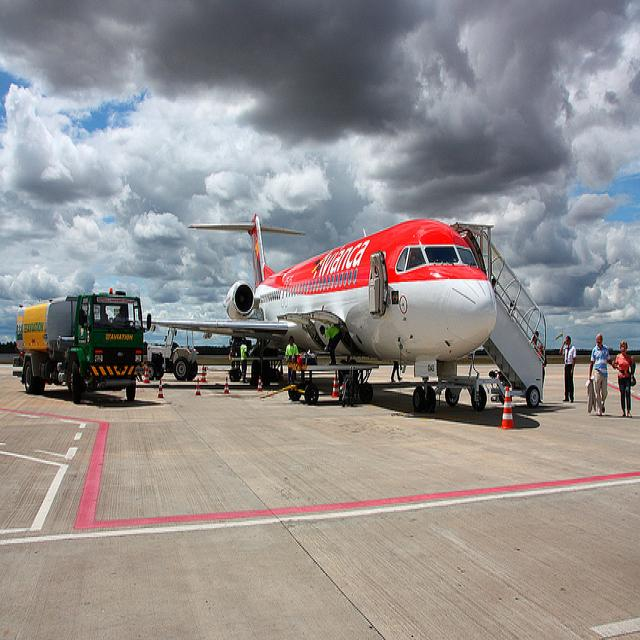Vehicle: (12, 287, 146, 403), (144, 326, 198, 381)
